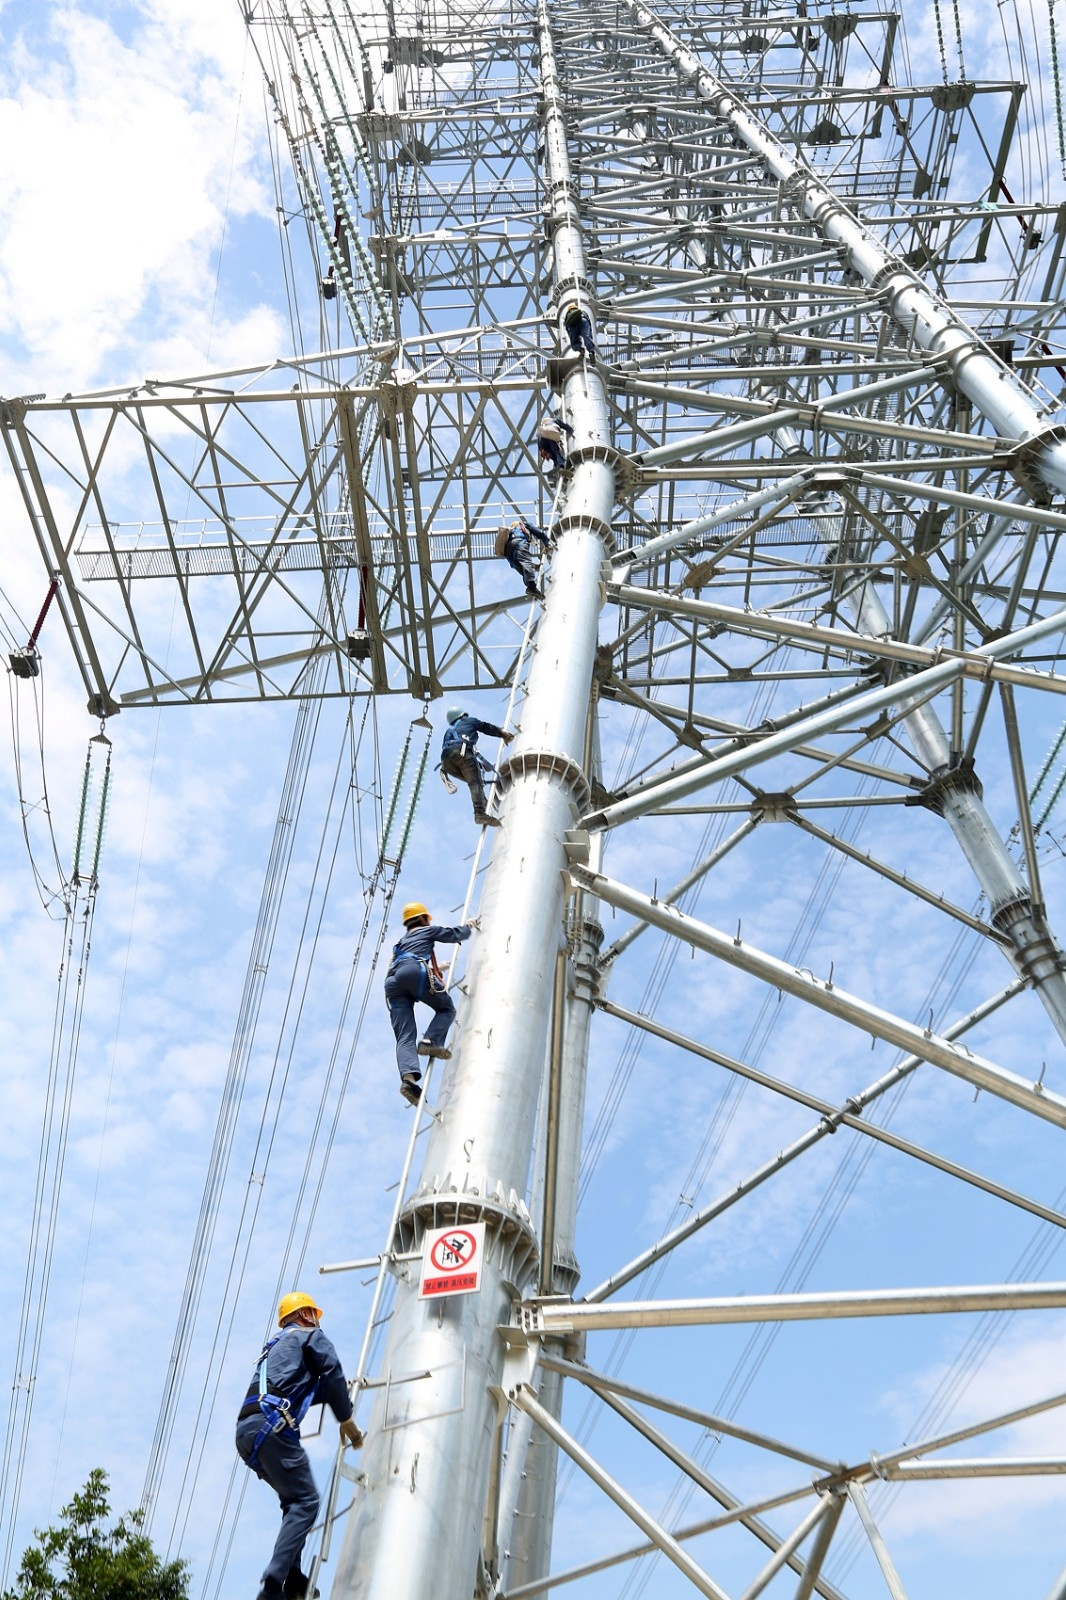white: (444, 705, 468, 728)
yellow: (272, 1285, 322, 1332), (401, 902, 433, 931)
